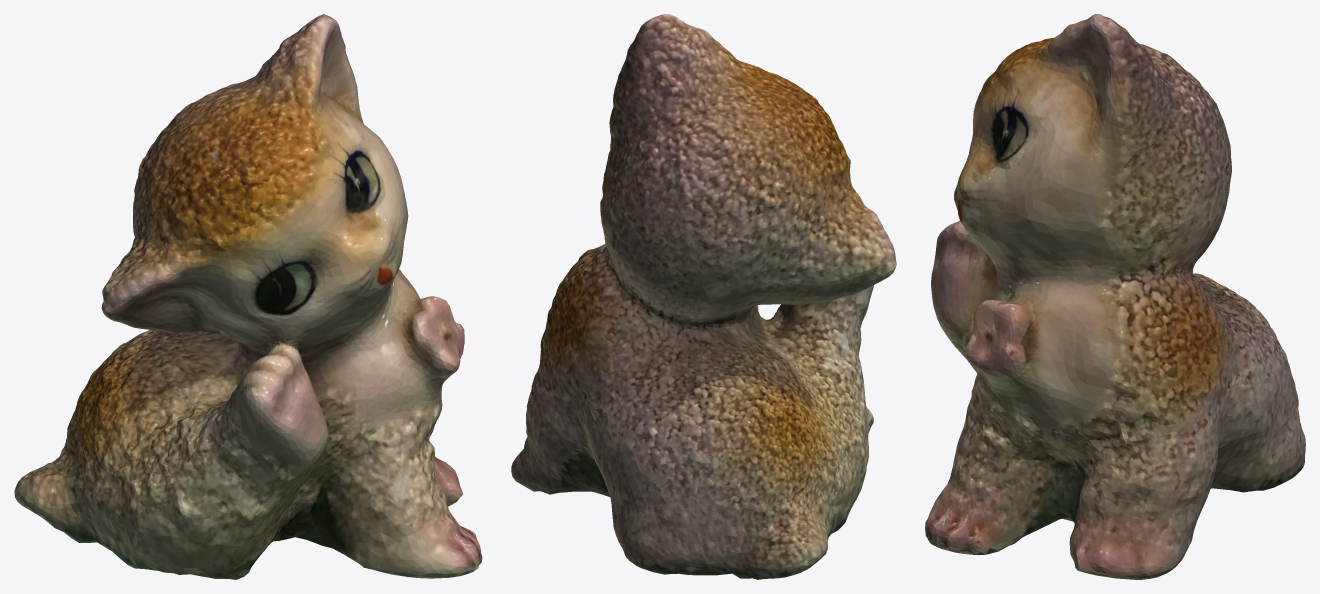
3 views of the same model, side by side, from view 1: azimuth 30°, elevation 25°; view 2: azimuth 150°, elevation 25°; view 3: azimuth 270°, elevation 25° (orthographic). The views are drawn at different scales.
Size of the model in its own units: 0.3894 by 0.511 by 0.3485.
1 material, 1 textured.
